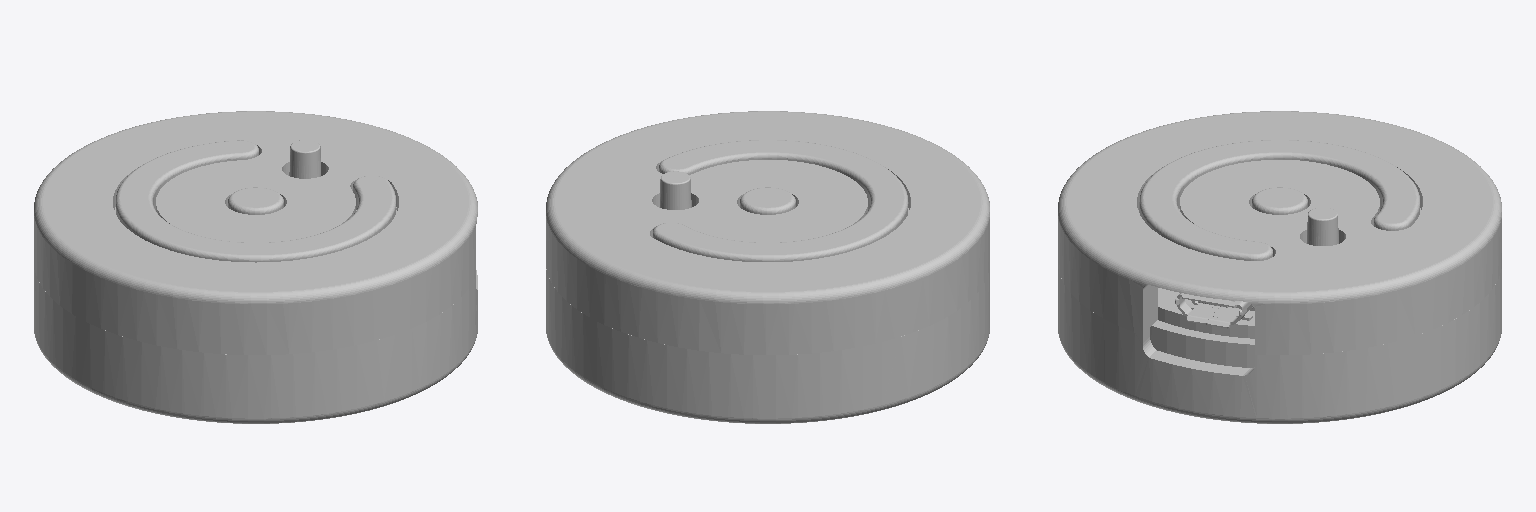
3 views of the same model, side by side, from view 1: azimuth 30°, elevation 25°; view 2: azimuth 150°, elevation 25°; view 3: azimuth 270°, elevation 25° (orthographic).
Visible parts, largest first — view 1: Case_v3.0_-_Tapa_SUP-2, Case_v3.0_-_Tapa_INF-4, Case_v3.0_-_Pipe-2, Case_v3.0_-_ESP_Acc_v1.0-3_S1_2-1_TL3301CFxxxxJ_2-1_Body1_2-1; view 2: Case_v3.0_-_Tapa_SUP-2, Case_v3.0_-_Tapa_INF-4, Case_v3.0_-_Pipe-2, Case_v3.0_-_ESP_Acc_v1.0-3_S1_2-1_TL3301CFxxxxJ_2-1_Body1_2-1; view 3: Case_v3.0_-_Tapa_SUP-2, Case_v3.0_-_Tapa_INF-4, Case_v3.0_-_Pipe-2, Case_v3.0_-_ESP_Acc_v1.0-3_J2_2-1_[number redacted]_2-1, Case_v3.0_-_ESP_Acc_v1.0-3_Board_2-1_Open_CASCADE_STEP_translat, Case_v3.0_-_ESP_Acc_v1.0-3_S1_2-1_TL3301CFxxxxJ_2-1_Body1_2-1.
Boxes of the visible parts, <box> form: Case_v3.0_-_Tapa_SUP-2: <box>34,111,477,354</box>; Case_v3.0_-_Tapa_INF-4: <box>34,270,477,423</box>; Case_v3.0_-_Pipe-2: <box>114,140,395,262</box>; Case_v3.0_-_ESP_Acc_v1.0-3_S1_2-1_TL3301CFxxxxJ_2-1_Body1_2-1: <box>289,140,320,178</box>; Case_v3.0_-_Tapa_SUP-2: <box>546,111,989,354</box>; Case_v3.0_-_Tapa_INF-4: <box>546,269,989,423</box>; Case_v3.0_-_Pipe-2: <box>653,140,909,261</box>; Case_v3.0_-_ESP_Acc_v1.0-3_S1_2-1_TL3301CFxxxxJ_2-1_Body1_2-1: <box>660,171,691,209</box>; Case_v3.0_-_Tapa_SUP-2: <box>1058,111,1501,367</box>; Case_v3.0_-_Tapa_INF-4: <box>1058,269,1501,423</box>; Case_v3.0_-_Pipe-2: <box>1138,140,1421,260</box>; Case_v3.0_-_ESP_Acc_v1.0-3_J2_2-1_[number redacted]_2-1: <box>1175,293,1254,328</box>; Case_v3.0_-_ESP_Acc_v1.0-3_Board_2-1_Open_CASCADE_STEP_translat: <box>1158,288,1254,338</box>; Case_v3.0_-_ESP_Acc_v1.0-3_S1_2-1_TL3301CFxxxxJ_2-1_Body1_2-1: <box>1307,208,1338,245</box>.
Bounding box in the file's own units: 380 × 145 × 380.